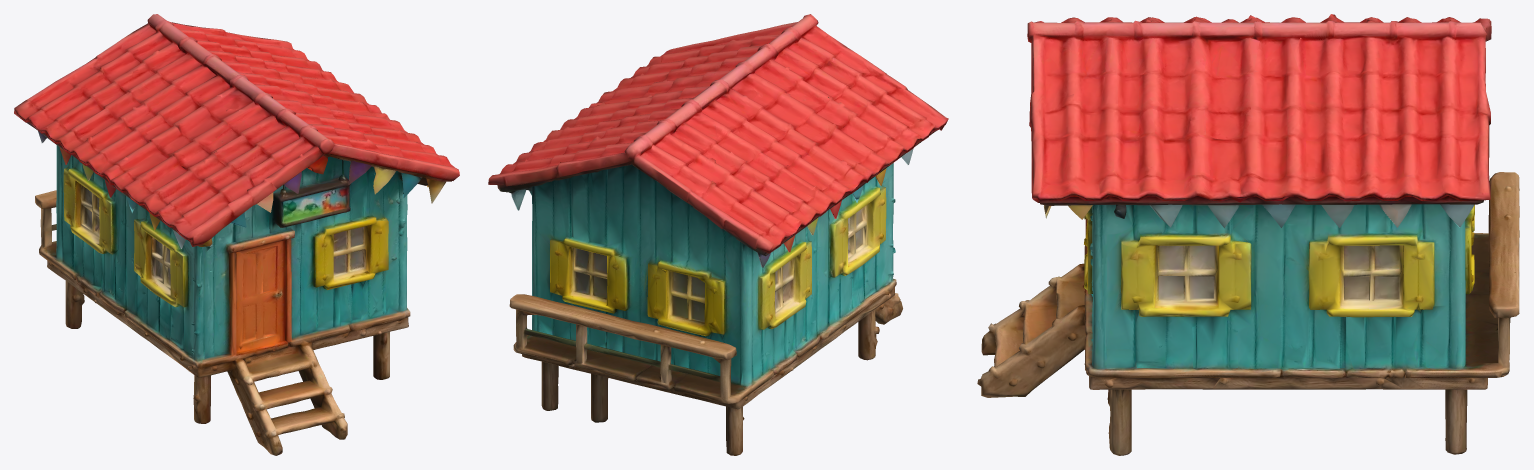
File: cabin.glb
The picture shows the model from 3 angles, left to right: view 1: azimuth 30°, elevation 25°; view 2: azimuth 150°, elevation 25°; view 3: azimuth 270°, elevation 25°; orthographic projection. The views are drawn at different scales.
Visible parts, largest first — view 1: tripo_node_397ec960-946d-4095-9d0f-70a26dbc3a56; view 2: tripo_node_397ec960-946d-4095-9d0f-70a26dbc3a56; view 3: tripo_node_397ec960-946d-4095-9d0f-70a26dbc3a56.
Part boxes in pixels (x1,y1,x2,y2): tripo_node_397ec960-946d-4095-9d0f-70a26dbc3a56: (14, 14, 459, 455); tripo_node_397ec960-946d-4095-9d0f-70a26dbc3a56: (488, 14, 948, 455); tripo_node_397ec960-946d-4095-9d0f-70a26dbc3a56: (977, 14, 1519, 455).
Size of the model in its own units: 0.7595 by 0.7642 by 1.
1 material, 1 textured.
